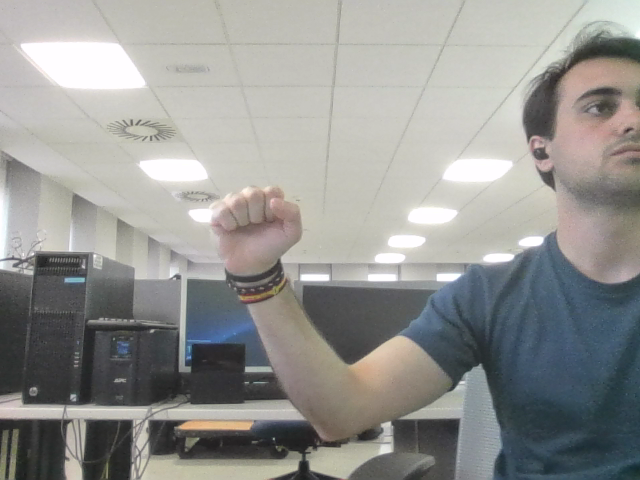Puño: (222, 192, 290, 253)
